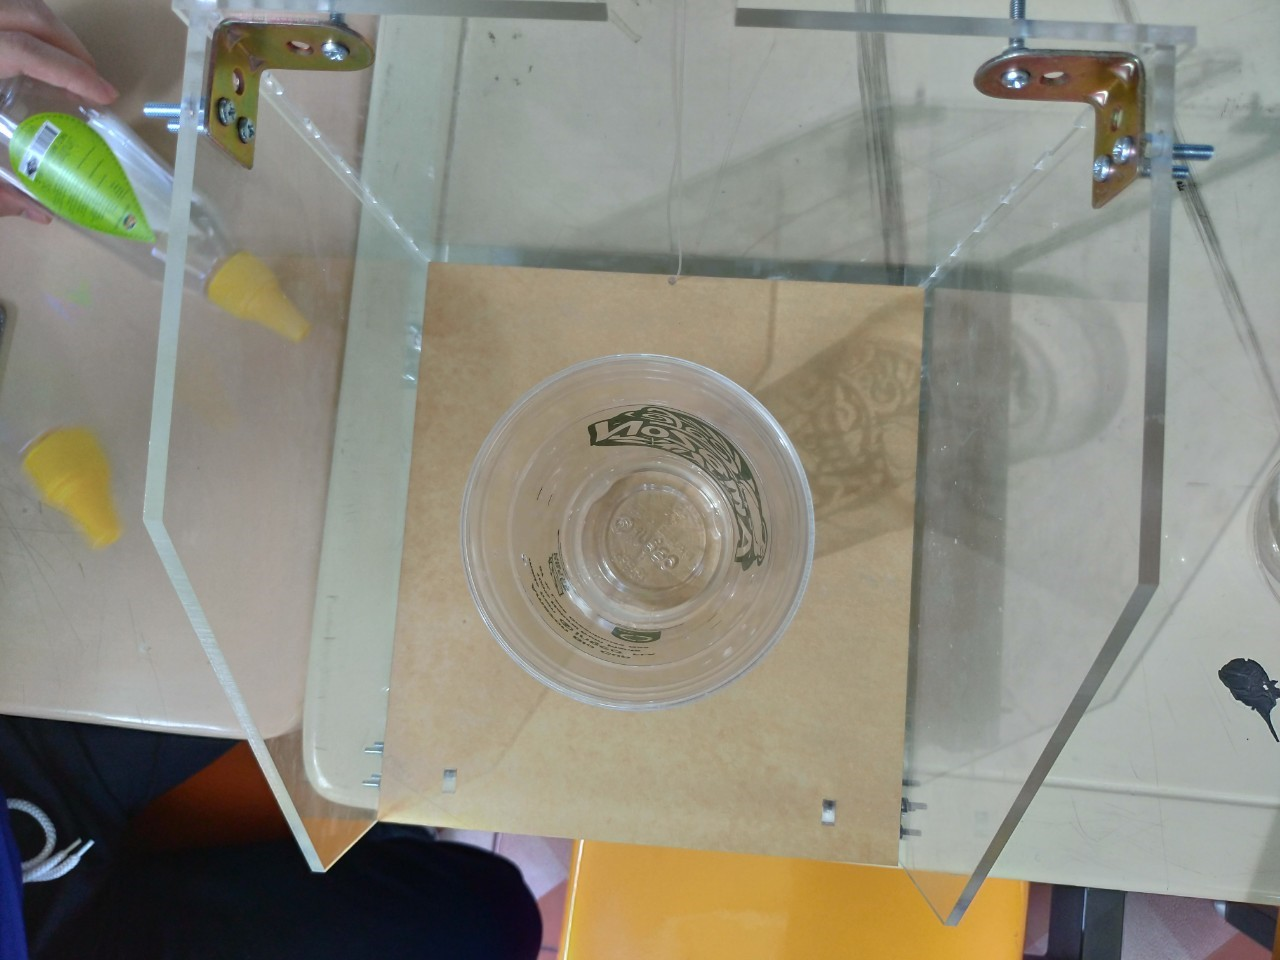PlasticCup: (459, 353, 815, 712)
